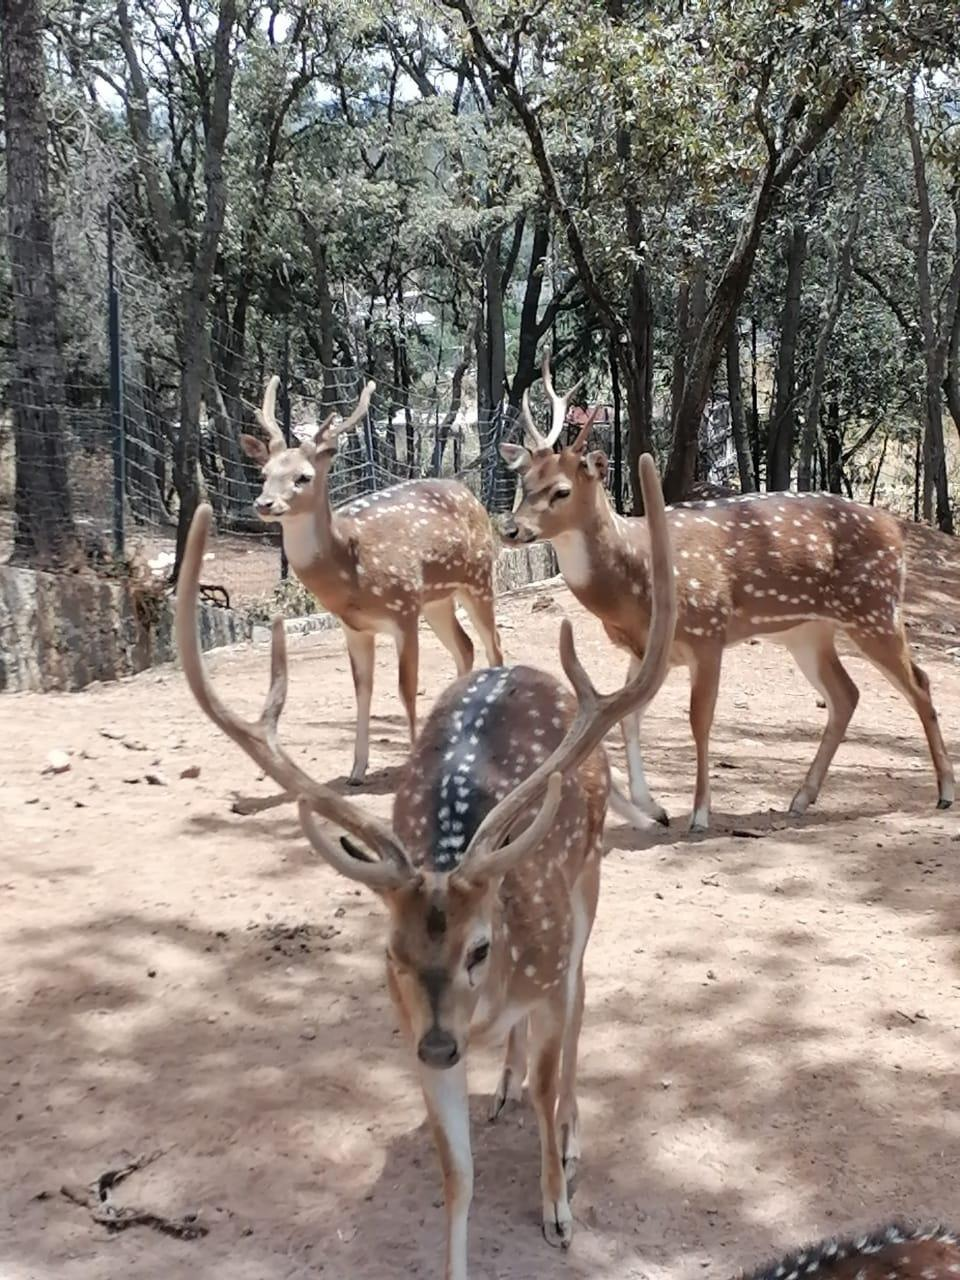Deer: (176, 456, 675, 1279), (498, 351, 954, 830), (242, 376, 502, 786)
